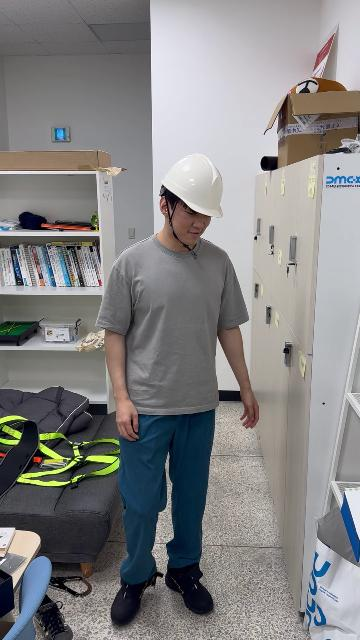helmet_worn: (158, 152, 226, 219)
shoe_not_worn: (33, 596, 74, 638)
shoe_worn: (109, 568, 163, 626), (165, 563, 213, 615)
vest_not_worn: (124, 242, 223, 423)
vest_worn: (1, 414, 122, 491)
